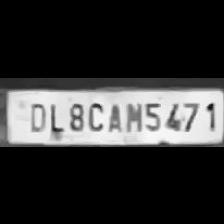1: (199, 99, 219, 131)
4: (162, 98, 184, 132)
5: (142, 98, 162, 132)
7: (179, 98, 199, 132)
8: (66, 100, 86, 132)
A: (106, 100, 124, 132)
C: (85, 98, 105, 132)
D: (24, 100, 46, 132)
L: (44, 99, 64, 133)
M: (124, 98, 142, 132)
